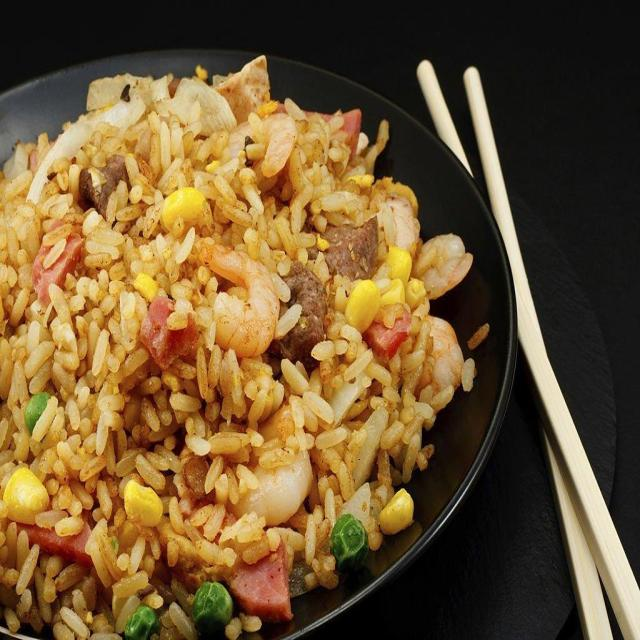Nasi Goreng: (1, 55, 479, 638)
